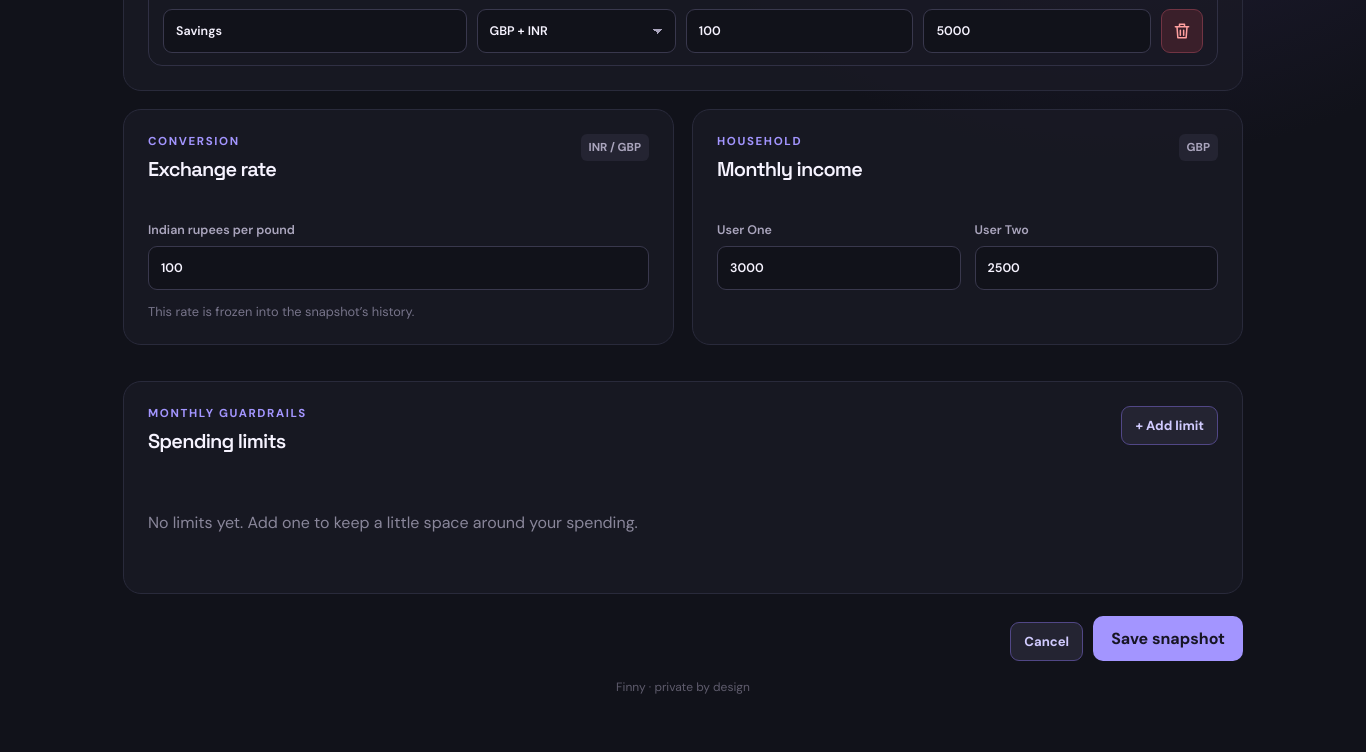
Scenario: EditDashboardPage › offers a reload flow after a revision conflict
(page scrolled)
Check: the field showing "Savings" is shown, box [163,9,466,53]
Click the button "Save snapshot" at (1168, 639), box [1093,616,1243,661]
(page scrolled)
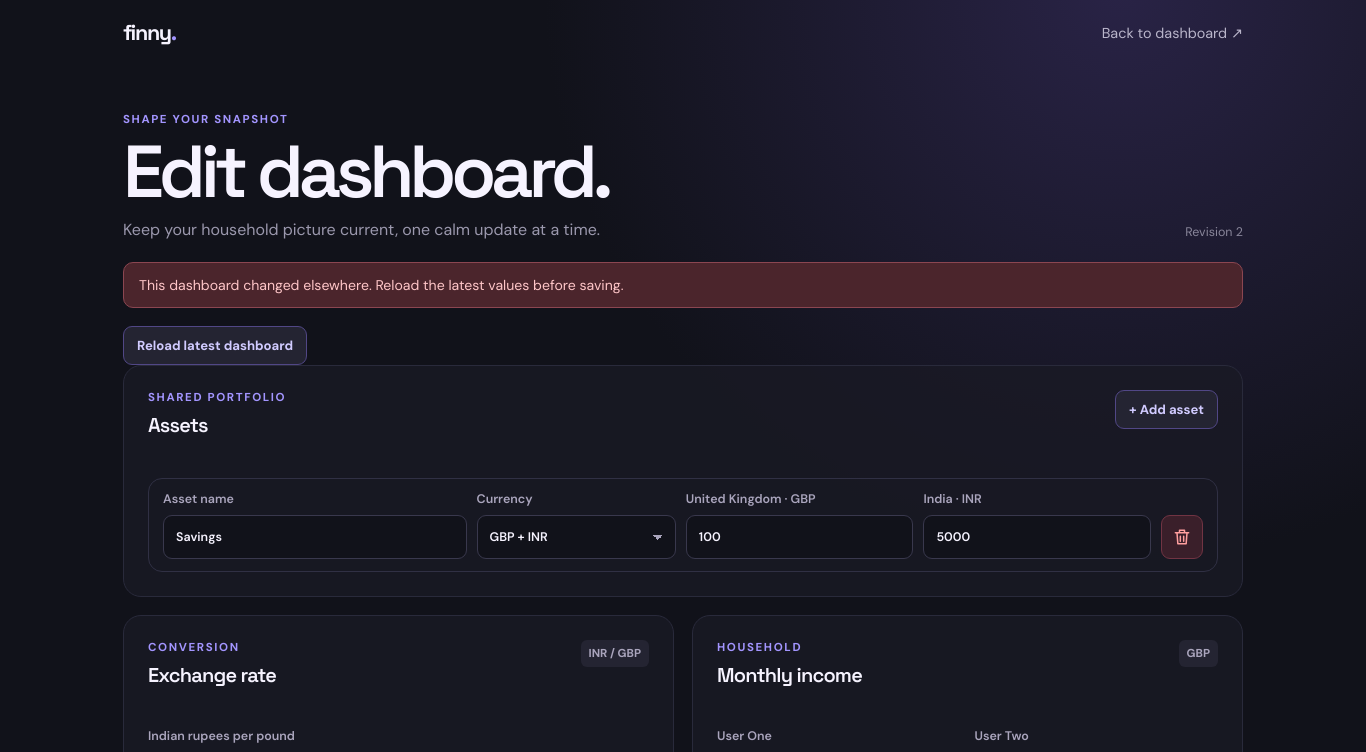
Check: the button "Reload latest dashboard" is shown
Click the button "Reload latest dashboard" at (215, 345), box [123,326,307,365]
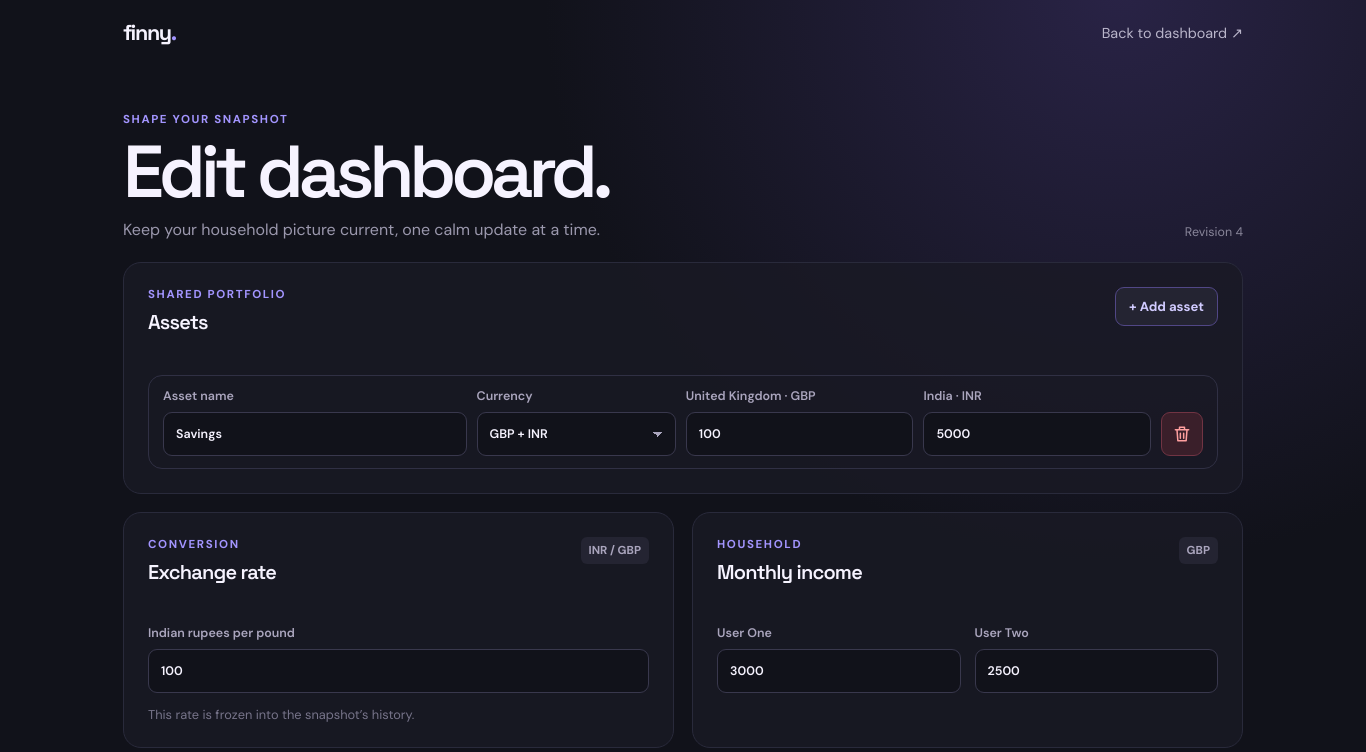
Check: the text "Revision 4" is shown, box [1185,224,1243,240]
